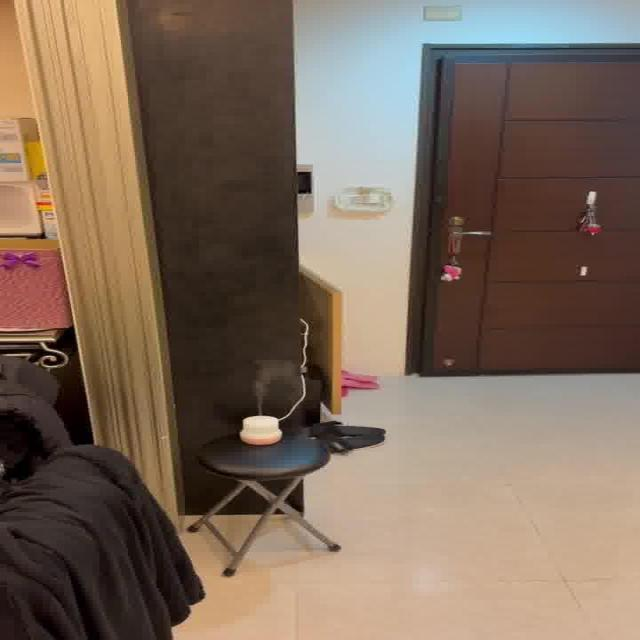fire: (244, 359, 292, 408)
